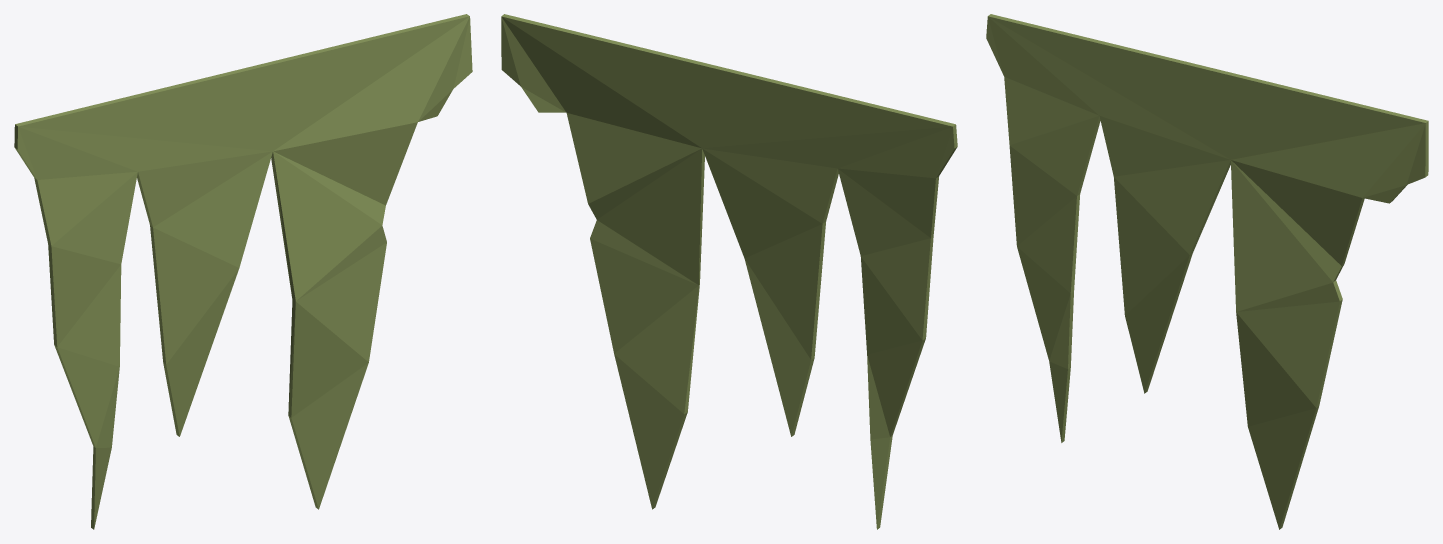
File: Wh_Creeper_02.fbx
3 renders of one model, left to right at view 1: azimuth 30°, elevation 25°; view 2: azimuth 150°, elevation 25°; view 3: azimuth 330°, elevation 25°, orthographic. The views are drawn at different scales.
Parts seen in each view (by area): view 1: Plane.593; view 2: Plane.593; view 3: Plane.593.
Boxes of the visible parts, left/top/right/bottom form: Plane.593: left=14, top=14, right=472, bottom=529; Plane.593: left=501, top=14, right=957, bottom=529; Plane.593: left=986, top=14, right=1428, bottom=529.
Size of the model in its own units: 301 by 290 by 16.05.
